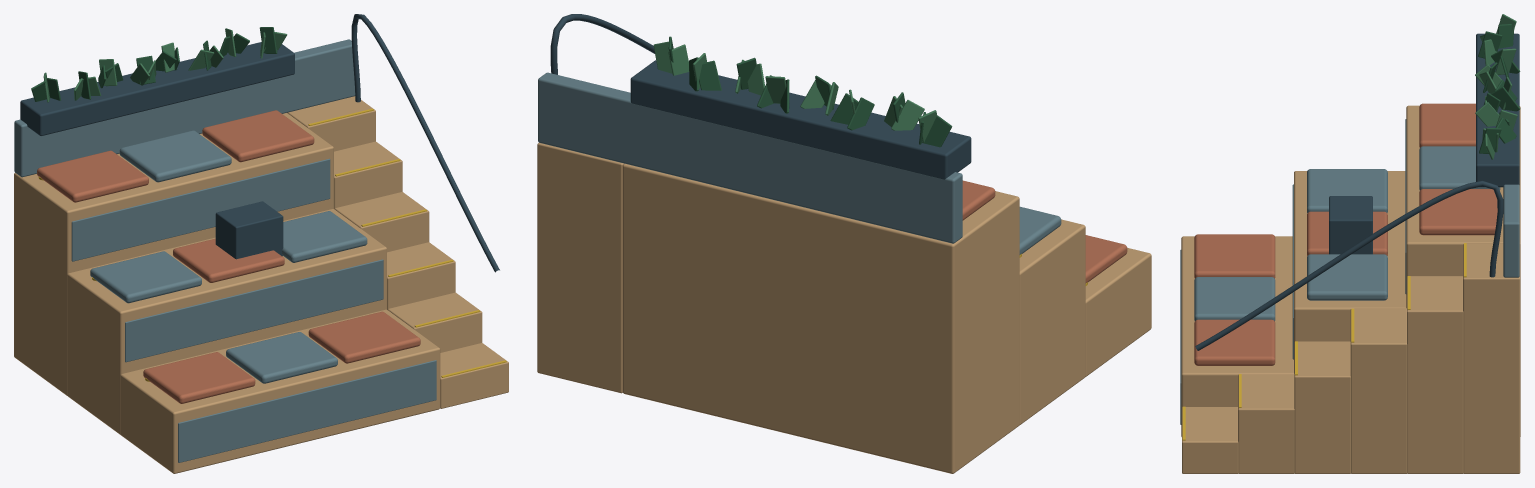
Rendered from campus-bleacher-terracotta.glb.
The picture shows the model from 3 angles, left to right: view 1: azimuth 30°, elevation 25°; view 2: azimuth 150°, elevation 25°; view 3: azimuth 270°, elevation 25°; orthographic projection. The views are drawn at different scales.
Size of the model in its own units: 2.25 by 1.81 by 1.87.
